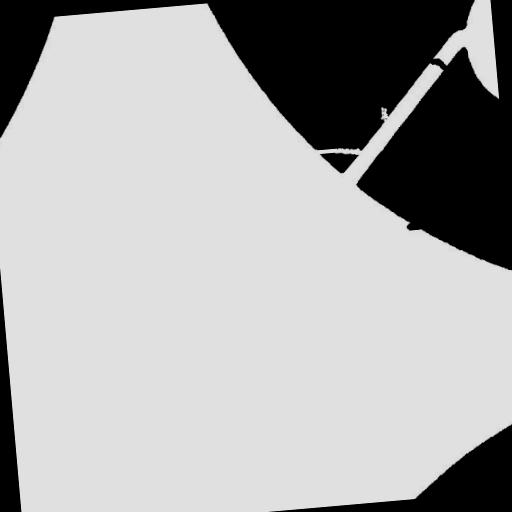mousebite: (370, 98, 396, 131)
open: (302, 136, 373, 166)
short: (418, 48, 456, 82)
spur: (398, 214, 430, 238)
